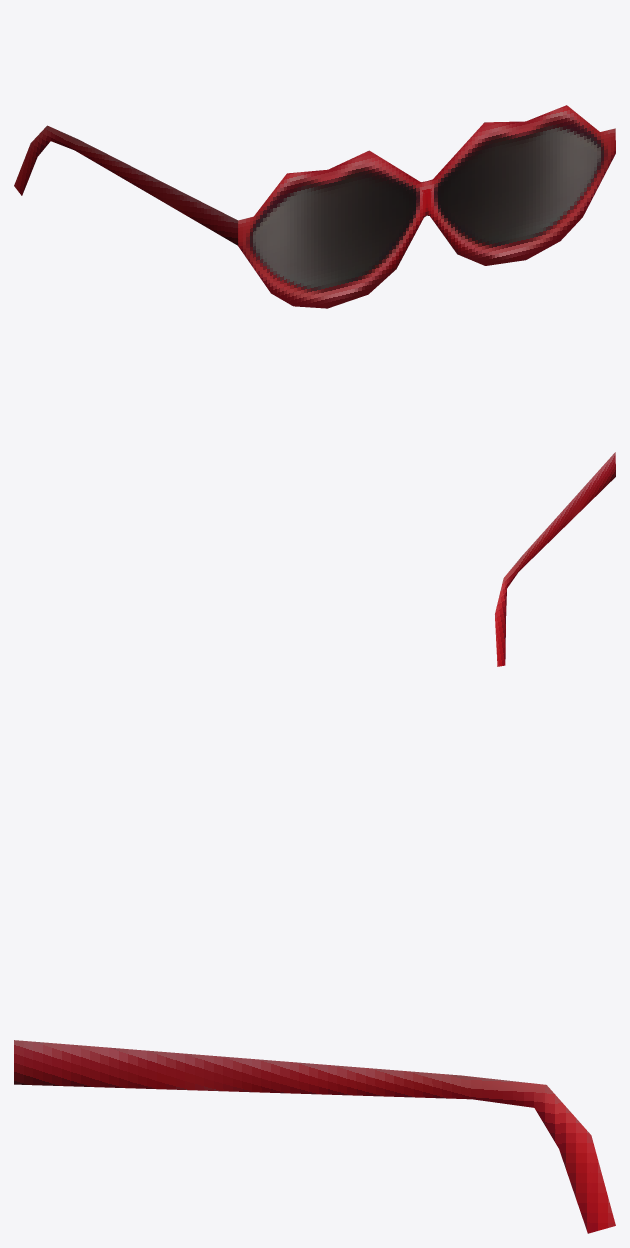
Rendered from tt_m_chr_avt_acc_msk_mouthGlasses.glb.
The picture shows the model from 3 angles, top to bottom: view 1: azimuth 30°, elevation 25°; view 2: azimuth 150°, elevation 25°; view 3: azimuth 270°, elevation 25°; orthographic projection. The views are drawn at different scales.
Visible parts, largest first — view 1: smoochGlasses; view 2: smoochGlasses; view 3: smoochGlasses.
Part boxes in pixels (x1=…): smoochGlasses: x1=14, y1=105, x2=615, y2=308; smoochGlasses: x1=495, y1=452, x2=615, y2=666; smoochGlasses: x1=14, y1=1040, x2=615, y2=1233.
Bounding box in the file's own units: 4.25 × 1.24 × 2.6.
Materials: 1 (1 with a texture image).
